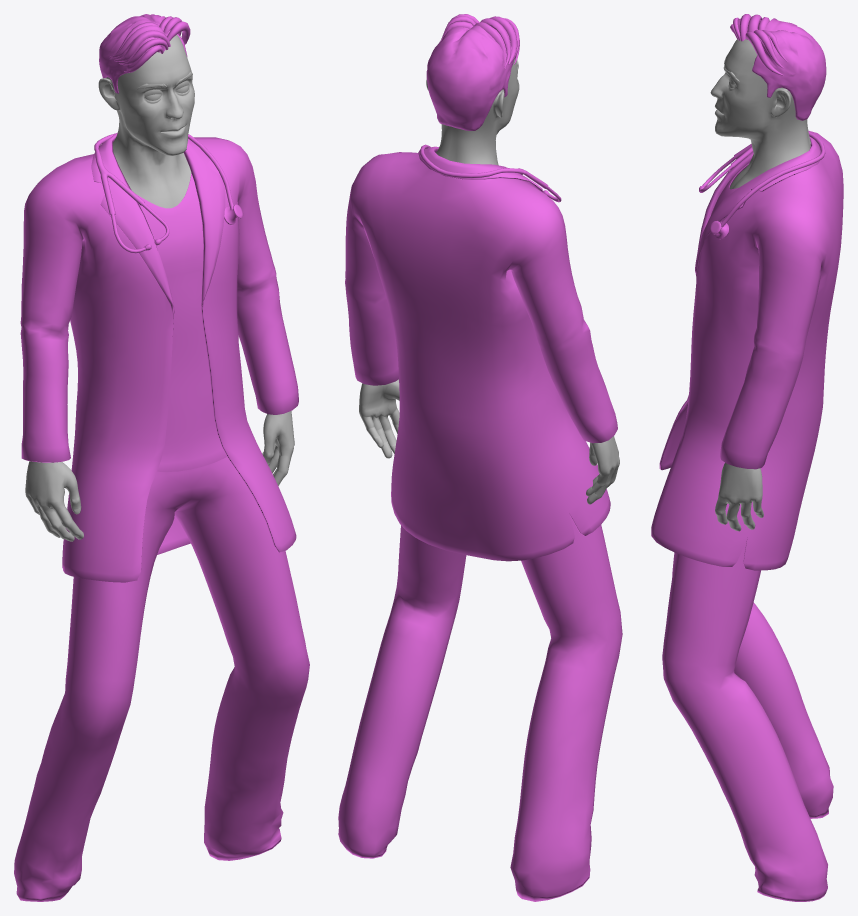
File: SM_DoctorOutfit.fbx
3 views of the same model, side by side, from view 1: azimuth 30°, elevation 25°; view 2: azimuth 150°, elevation 25°; view 3: azimuth 270°, elevation 25° (orthographic). The views are drawn at different scales.
Parts seen in each view (by area): view 1: Doctor_outfit.001, MaleBody_Fullbody.002; view 2: Doctor_outfit.001, MaleBody_Fullbody.002; view 3: Doctor_outfit.001, MaleBody_Fullbody.002.
Boxes of the visible parts, x1=… form: Doctor_outfit.001: x1=14, y1=14, x2=309, y2=901; MaleBody_Fullbody.002: x1=25, y1=34, x2=294, y2=541; Doctor_outfit.001: x1=338, y1=14, x2=622, y2=901; MaleBody_Fullbody.002: x1=359, y1=58, x2=619, y2=504; Doctor_outfit.001: x1=651, y1=14, x2=843, y2=901; MaleBody_Fullbody.002: x1=710, y1=39, x2=810, y2=531.
Bounding box in the file's own units: 55.56 × 172 × 36.03.
